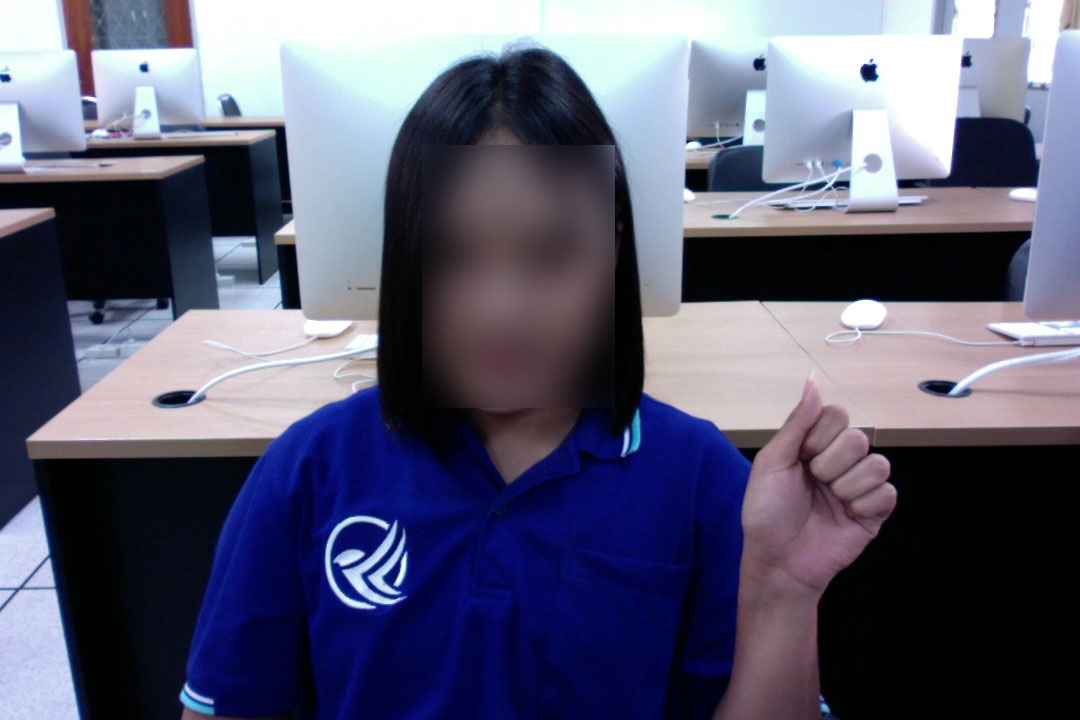or: (731, 372, 903, 604)
